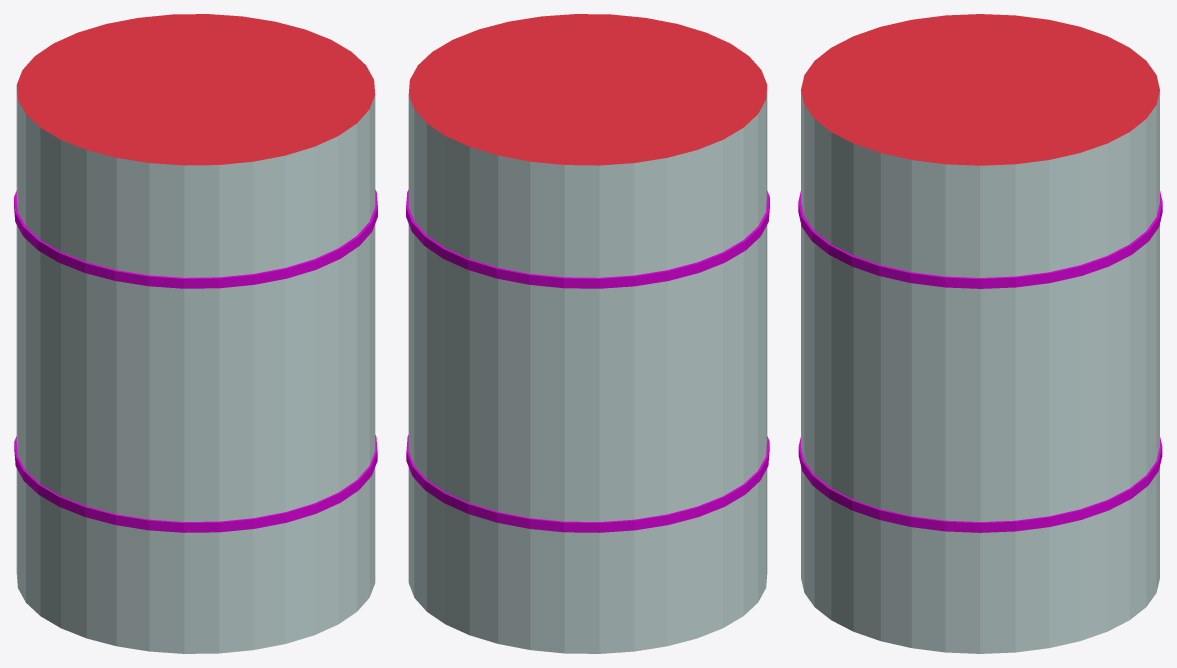
The model's file is barrel.glb.
The picture shows the model from 3 angles, left to right: view 1: azimuth 30°, elevation 25°; view 2: azimuth 150°, elevation 25°; view 3: azimuth 270°, elevation 25°; orthographic projection.
Parts seen in each view (by area): view 1: barrel; view 2: barrel; view 3: barrel.
Boxes of the visible parts, box(x1,y1,x2,y2) form: barrel: box(14, 14, 377, 653); barrel: box(406, 14, 769, 653); barrel: box(798, 14, 1162, 653).
Size of the model in its own units: 1.02 by 1.5 by 1.02.
